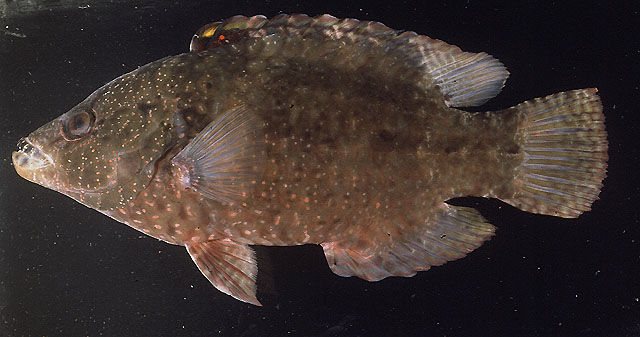fish: (12, 14, 610, 309)
